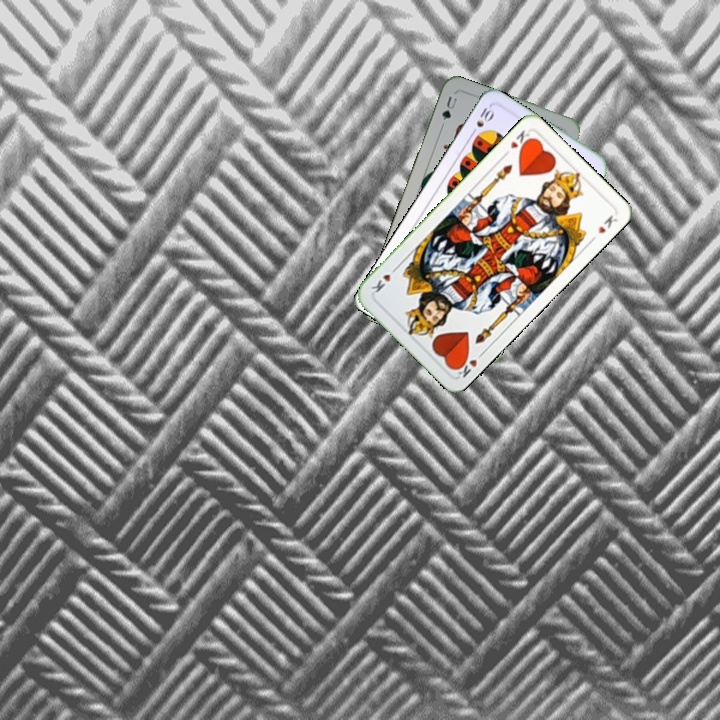GU: (437, 92, 460, 129)
HK: (450, 347, 487, 381), (499, 126, 535, 160)
S10: (467, 103, 497, 138)
